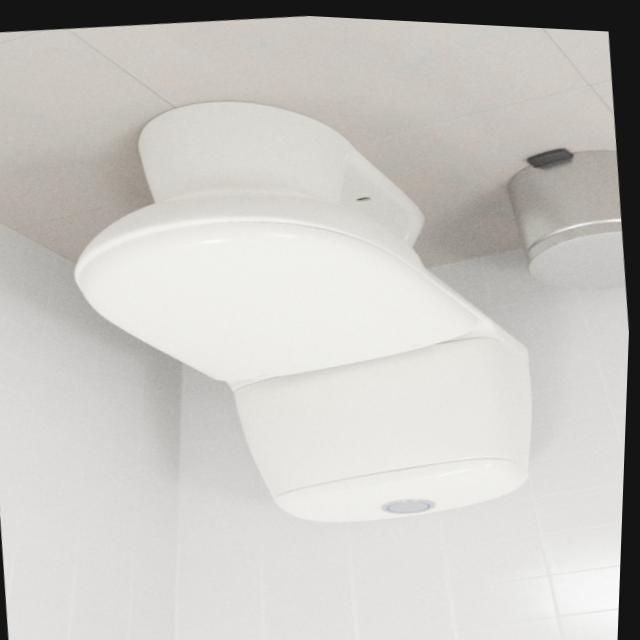toilet: (49, 61, 557, 554)
